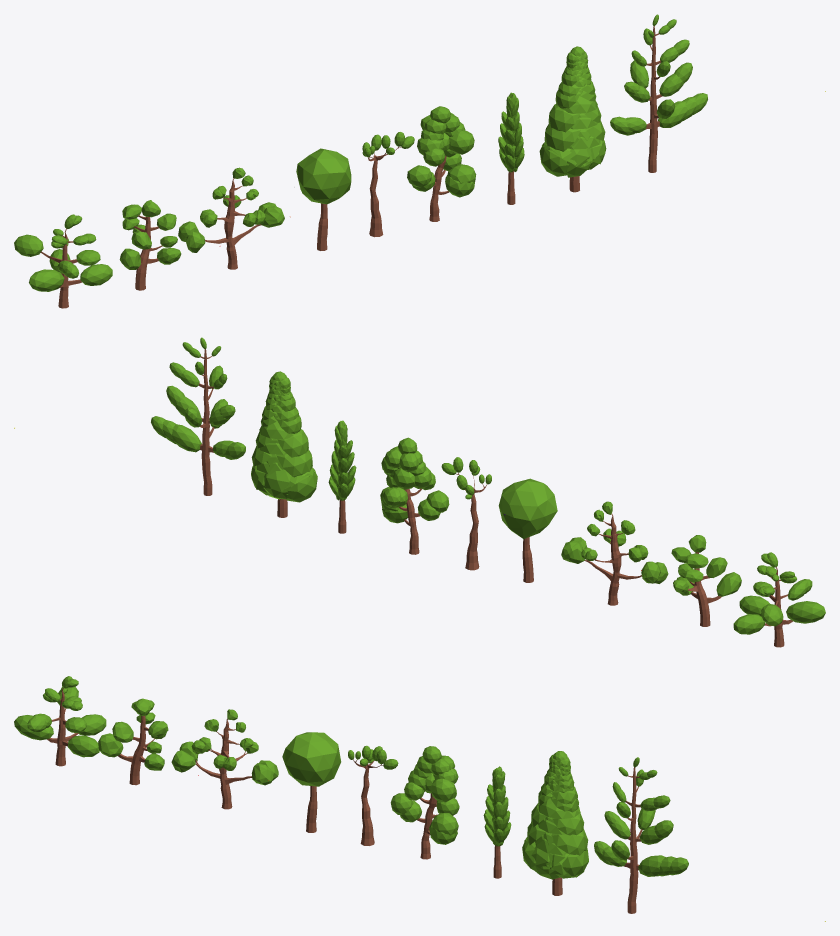
File: tree_agac.glb
The picture shows the model from 3 angles, top to bottom: view 1: azimuth 30°, elevation 25°; view 2: azimuth 150°, elevation 25°; view 3: azimuth 330°, elevation 25°; orthographic projection.
Visible parts, largest first — view 1: Icosphere.037, Cylinder.008, Cylinder.002, Cylinder.004, Cylinder.001, Icosphere.003, Icosphere.165, Cylinder, Icosphere.173, Icosphere.001, Icosphere.159; view 2: Icosphere.037, Cylinder.008, Cylinder.002, Icosphere.003, Cylinder.004, Icosphere.165, Icosphere.179, Cylinder.001, Icosphere.173, Cylinder.005, Icosphere.189; view 3: Icosphere.037, Cylinder.008, Cylinder.002, Cylinder.004, Cylinder.001, Cylinder, Icosphere.164, Cylinder.005, Icosphere.001, Icosphere.172, Icosphere.003, Icosphere.052 (+3 smaller).
Boxes of the visible parts, x1=… form: Icosphere.037: x1=296, y1=148, x2=351, y2=204; Cylinder.008: x1=645, y1=26, x2=662, y2=172; Cylinder.002: x1=205, y1=178, x2=261, y2=269; Cylinder.004: x1=368, y1=147, x2=401, y2=237; Cylinder.001: x1=134, y1=215, x2=162, y2=290; Icosphere.003: x1=29, y1=269, x2=64, y2=291; Icosphere.165: x1=544, y1=124, x2=580, y2=151; Cylinder: x1=40, y1=228, x2=82, y2=308; Icosphere.173: x1=539, y1=143, x2=569, y2=176; Icosphere.001: x1=80, y1=264, x2=112, y2=285; Icosphere.159: x1=548, y1=104, x2=579, y2=132; Icosphere.037: x1=498, y1=478, x2=557, y2=538; Cylinder.008: x1=199, y1=349, x2=214, y2=495; Cylinder.002: x1=584, y1=513, x2=641, y2=605; Icosphere.003: x1=786, y1=601, x2=825, y2=623; Cylinder.004: x1=455, y1=473, x2=487, y2=570; Icosphere.165: x1=276, y1=449, x2=312, y2=477; Icosphere.179: x1=264, y1=469, x2=293, y2=499; Cylinder.001: x1=688, y1=552, x2=721, y2=626; Icosphere.173: x1=286, y1=469, x2=317, y2=502; Cylinder.005: x1=399, y1=488, x2=421, y2=554; Icosphere.189: x1=172, y1=424, x2=201, y2=452; Icosphere.037: x1=282, y1=732, x2=341, y2=786; Cylinder.008: x1=624, y1=767, x2=642, y2=913; Cylinder.002: x1=195, y1=718, x2=252, y2=809; Cylinder.004: x1=353, y1=759, x2=382, y2=845; Cylinder.001: x1=118, y1=715, x2=154, y2=785; Cylinder: x1=47, y1=688, x2=78, y2=766; Icosphere.164: x1=551, y1=828, x2=588, y2=855; Cylinder.005: x1=417, y1=793, x2=437, y2=859; Icosphere.001: x1=68, y1=735, x2=99, y2=757; Icosphere.172: x1=555, y1=848, x2=588, y2=878; Icosphere.003: x1=14, y1=715, x2=53, y2=740; Icosphere.052: x1=430, y1=778, x2=456, y2=802.
Size of the model in its own units: 170 by 31.84 by 20.86.
